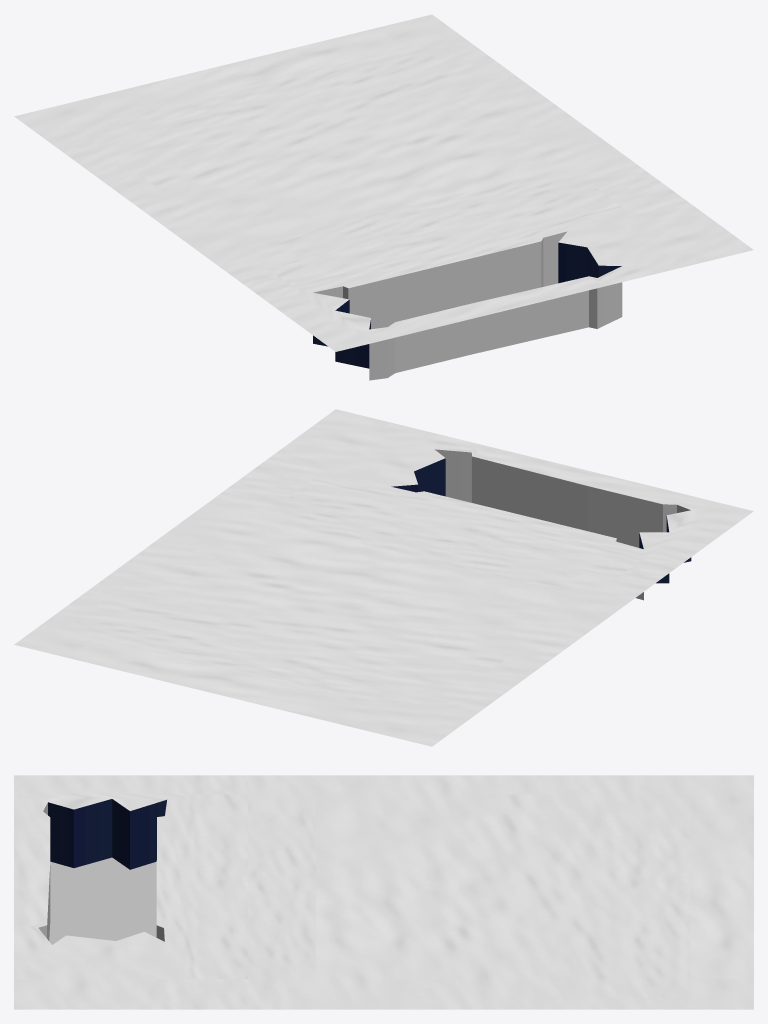
File: trapM02.FBX
The picture shows the model from 3 angles, top to bottom: view 1: azimuth 30°, elevation 25°; view 2: azimuth 150°, elevation 25°; view 3: azimuth 270°, elevation 25°; orthographic projection. The views are drawn at different scales.
Visible parts, largest first — view 1: Object044; view 2: Object044; view 3: Object044.
Part boxes in pixels (x1,y1,x2,y2): Object044: (14, 14, 753, 380); Object044: (14, 409, 753, 746); Object044: (14, 775, 753, 1009).
Bounding box in the file's own units: 600 × 70 × 800.
